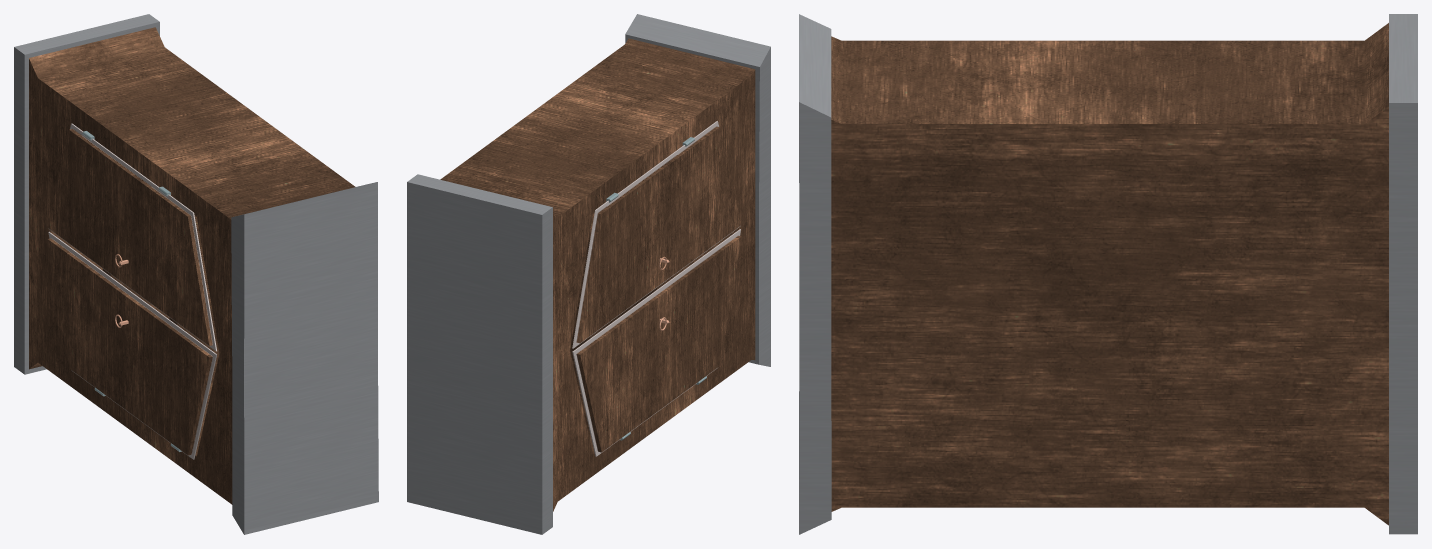
The model's file is wardrobe-small.glb.
3 views of the same model, side by side, from view 1: azimuth 30°, elevation 25°; view 2: azimuth 150°, elevation 25°; view 3: azimuth 270°, elevation 25° (orthographic). The views are drawn at different scales.
Parts seen in each view (by area): view 1: Box090__0; view 2: Box090__0; view 3: Box090__0.
Boxes of the visible parts, x1,y1,x2,y2 form: Box090__0: [14, 14, 378, 534]; Box090__0: [407, 14, 770, 534]; Box090__0: [799, 14, 1417, 534].
Bounding box in the file's own units: 0.2881 × 0.6 × 0.7784.
1 material, 1 textured.
